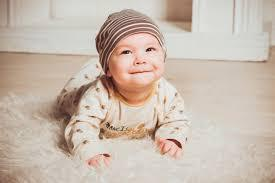child: (46, 6, 195, 167)
